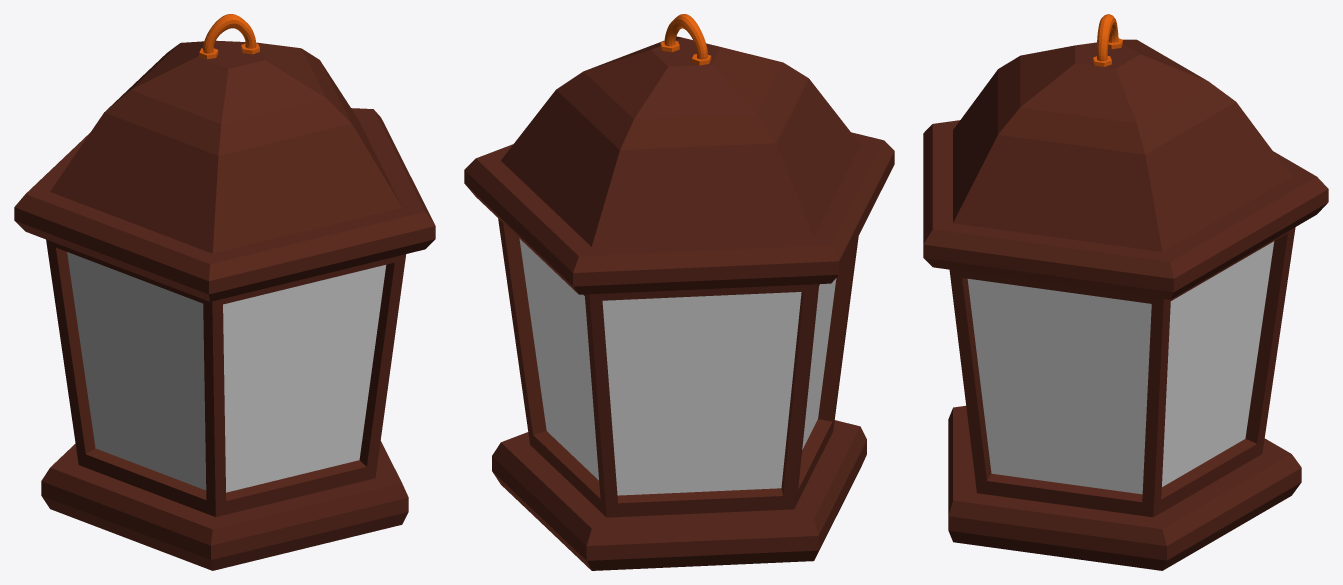
The model's file is lantern.fbx.
The picture shows the model from 3 angles, left to right: view 1: azimuth 30°, elevation 25°; view 2: azimuth 150°, elevation 25°; view 3: azimuth 270°, elevation 25°; orthographic projection. The views are drawn at different scales.
Parts seen in each view (by area): view 1: Cylinder.003; view 2: Cylinder.003; view 3: Cylinder.003.
Boxes of the visible parts, bbox=[...] form: Cylinder.003: bbox=[14, 14, 435, 570]; Cylinder.003: bbox=[464, 14, 894, 570]; Cylinder.003: bbox=[923, 14, 1328, 570].
Bounding box in the file's own units: 174 × 216 × 165.
